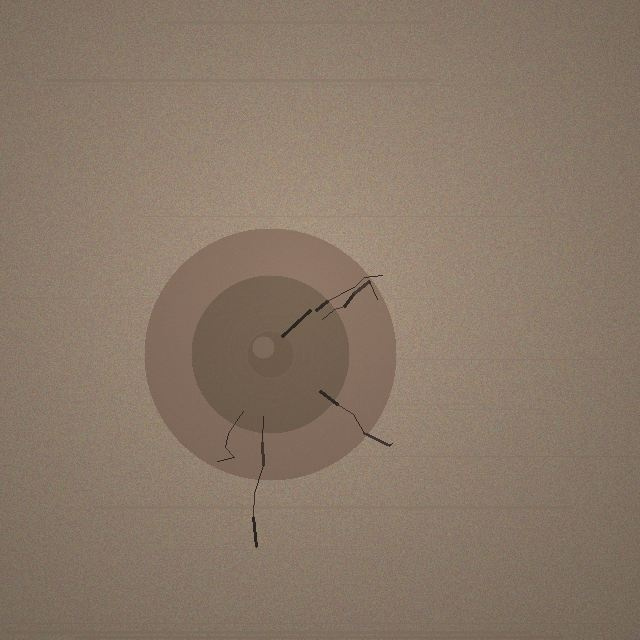crack: (144, 228, 396, 480)
